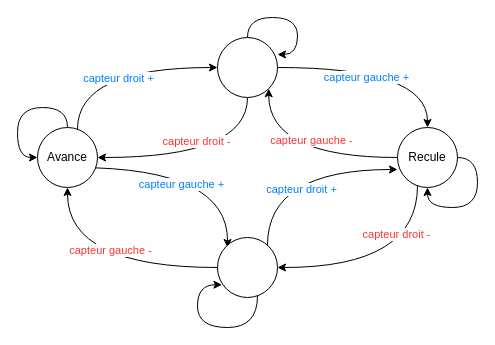
This 495x345 diagram has some shape labels left out. The box of each missing label's shape, as (x1, y1, x2, y2) in pixels:
Tourne à droite: (216, 236, 278, 298)
Tourne à gauche: (216, 36, 278, 98)
